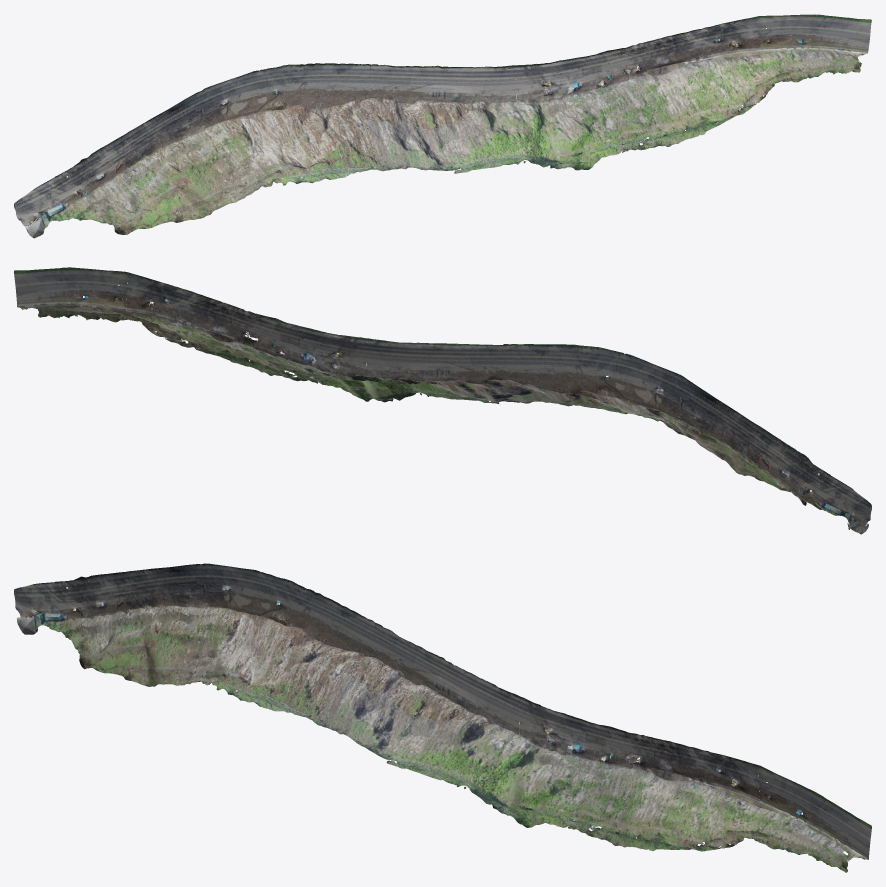
3 views of the same model, one above another, from view 1: azimuth 30°, elevation 25°; view 2: azimuth 150°, elevation 25°; view 3: azimuth 330°, elevation 25° (orthographic). The views are drawn at different scales.
Parts seen in each view (by area): view 1: Bloco 1; view 2: Bloco 1; view 3: Bloco 1.
Boxes of the visible parts, bbox=[...] form: Bloco 1: bbox=[14, 14, 871, 238]; Bloco 1: bbox=[14, 267, 871, 534]; Bloco 1: bbox=[14, 563, 871, 872].
Bounding box in the file's own units: 445 × 72.36 × 42.69.
Materials: 1 (1 with a texture image).
